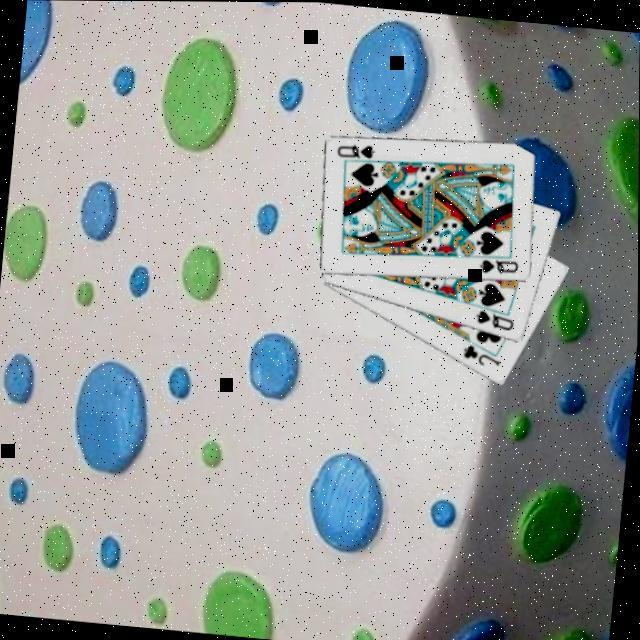JC: (458, 338, 504, 368)
QS: (471, 304, 516, 331), (476, 252, 522, 276), (333, 136, 377, 160)
